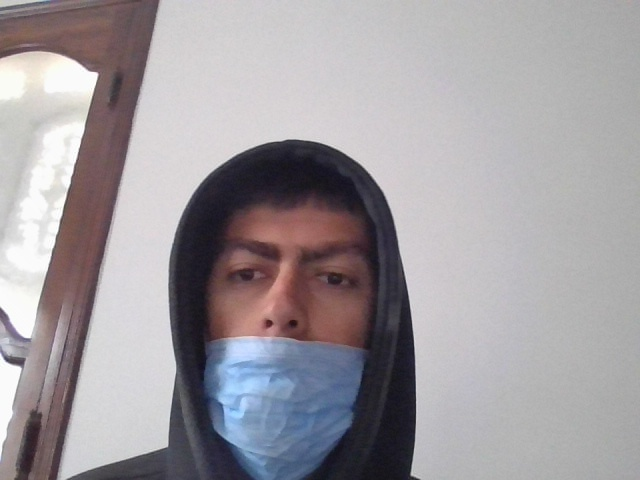mask_weared_incorrect: (190, 183, 386, 479)
